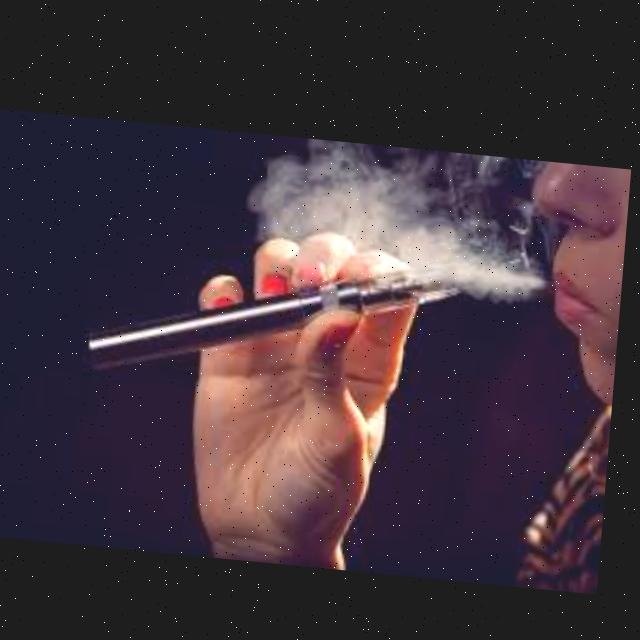vape: (90, 229, 463, 396)
